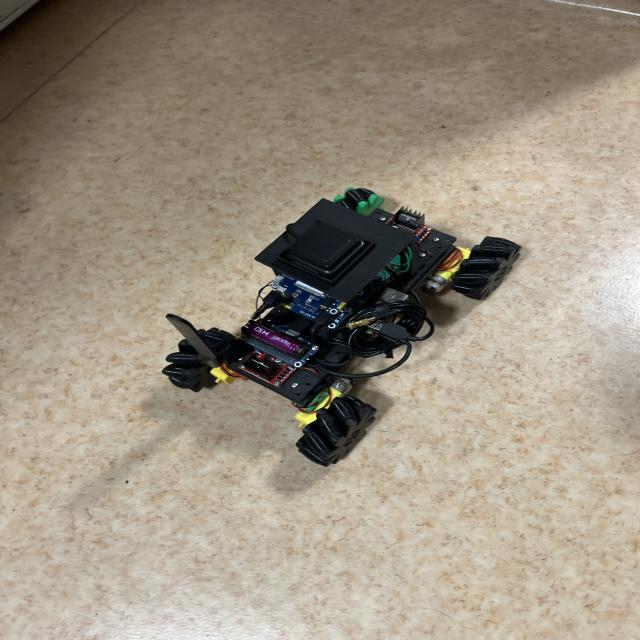robot: (162, 188, 520, 466)
